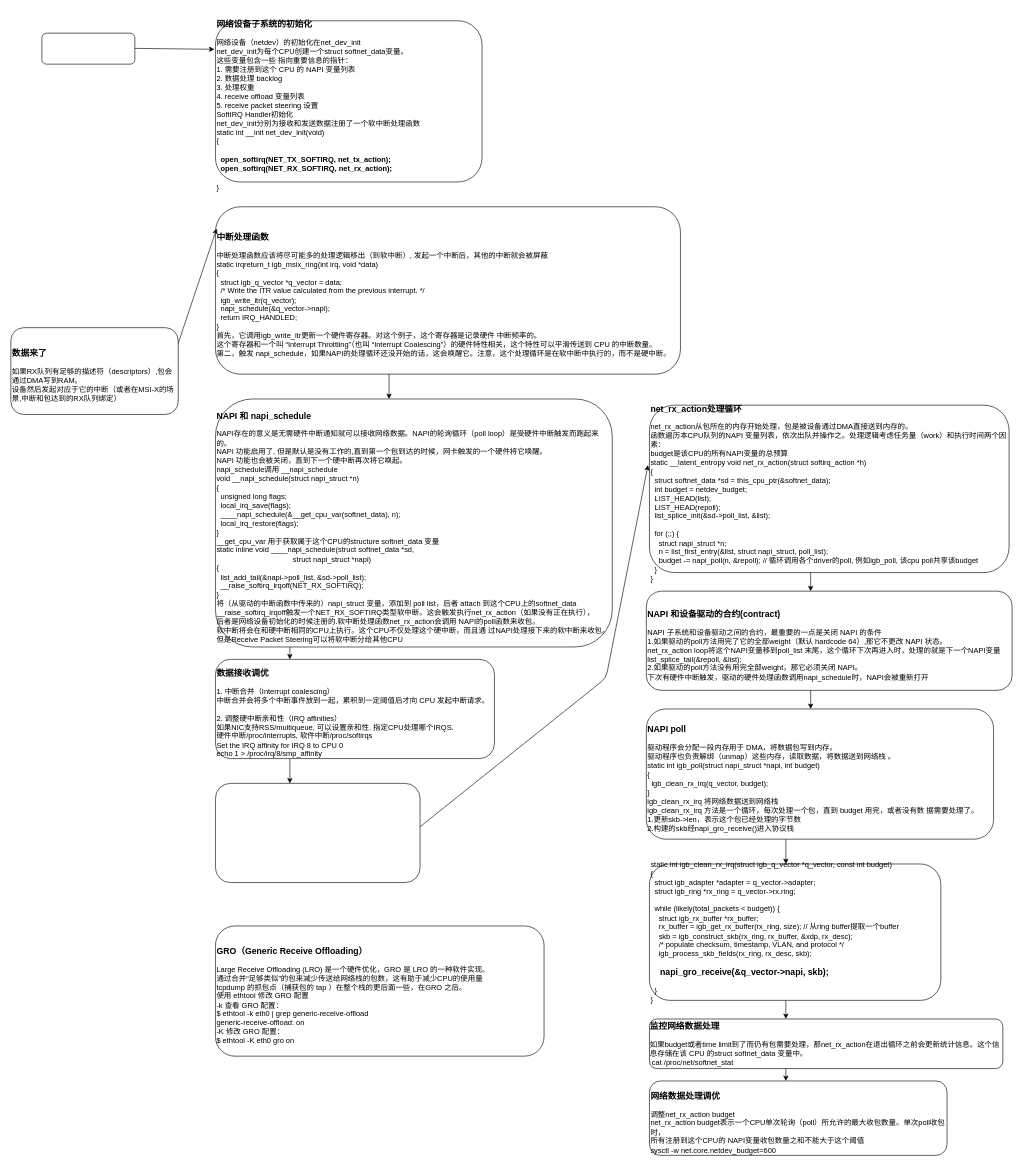
This 1023x1166 diagram has some shape labels left out. The shapes that lost their labels are listed below. From the top down, each one's centre as x and y in pixels, then its label:
At pixel 88 48: "Linux网络设备子系统".
At pixel 317 833: "网络数据处理：开始 一旦软中断代码判断出有softirq处于pending状态，就会开始处理，执行net_rx_action，网络数据处理就此开始".
